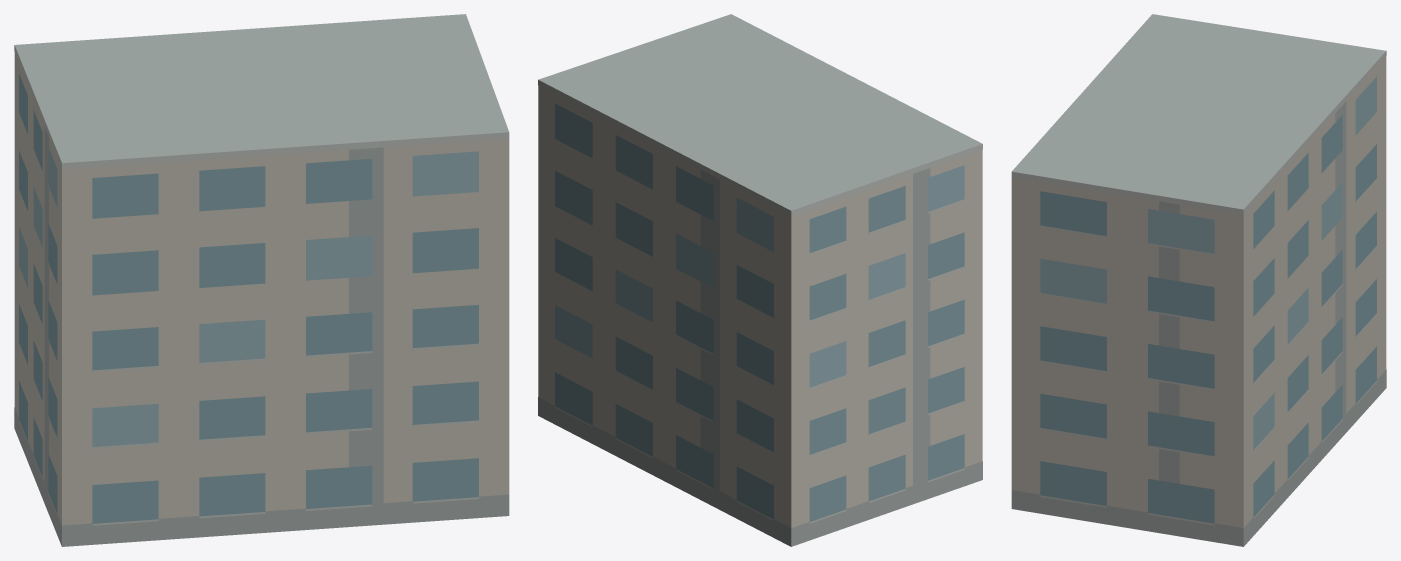
File: survey-upis-32875153.glb
3 renders of one model, left to right at view 1: azimuth 30°, elevation 25°; view 2: azimuth 150°, elevation 25°; view 3: azimuth 270°, elevation 25°, orthographic. The views are drawn at different scales.
Visible parts, largest first — view 1: survey-upis-32875153.tmp; view 2: survey-upis-32875153.tmp; view 3: survey-upis-32875153.tmp.
Boxes of the visible parts, x1=… form: survey-upis-32875153.tmp: x1=14, y1=14, x2=509, y2=546; survey-upis-32875153.tmp: x1=538, y1=14, x2=982, y2=546; survey-upis-32875153.tmp: x1=1011, y1=14, x2=1386, y2=546.
Size of the model in its own units: 18.04 by 14.5 by 14.61.
